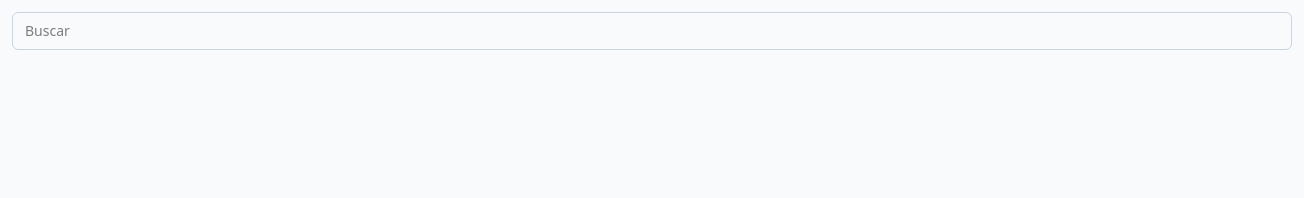
Test case: SearchCombobox › escribir de nuevo descarta la selección anterior
Later steps or results of the test are not shown.
Step 1. Focus the dropdown → (652, 31), box [12,12,1292,50]
Wait 300 ms
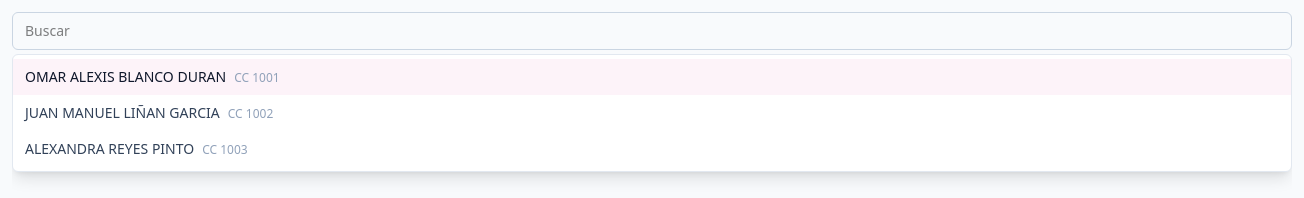
Step 2. Press the mouse on the option "OMAR ALEXIS BLANCO DURANCC 1001" → (126, 76), box [13,59,1291,95]
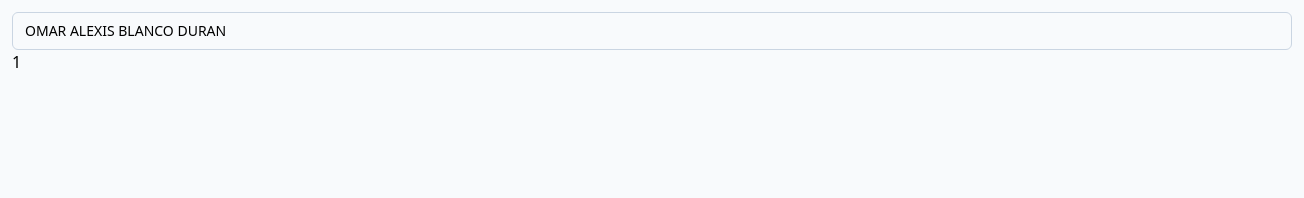
expect the text with test id "value" reads "1": met, box [12,51,21,73]
